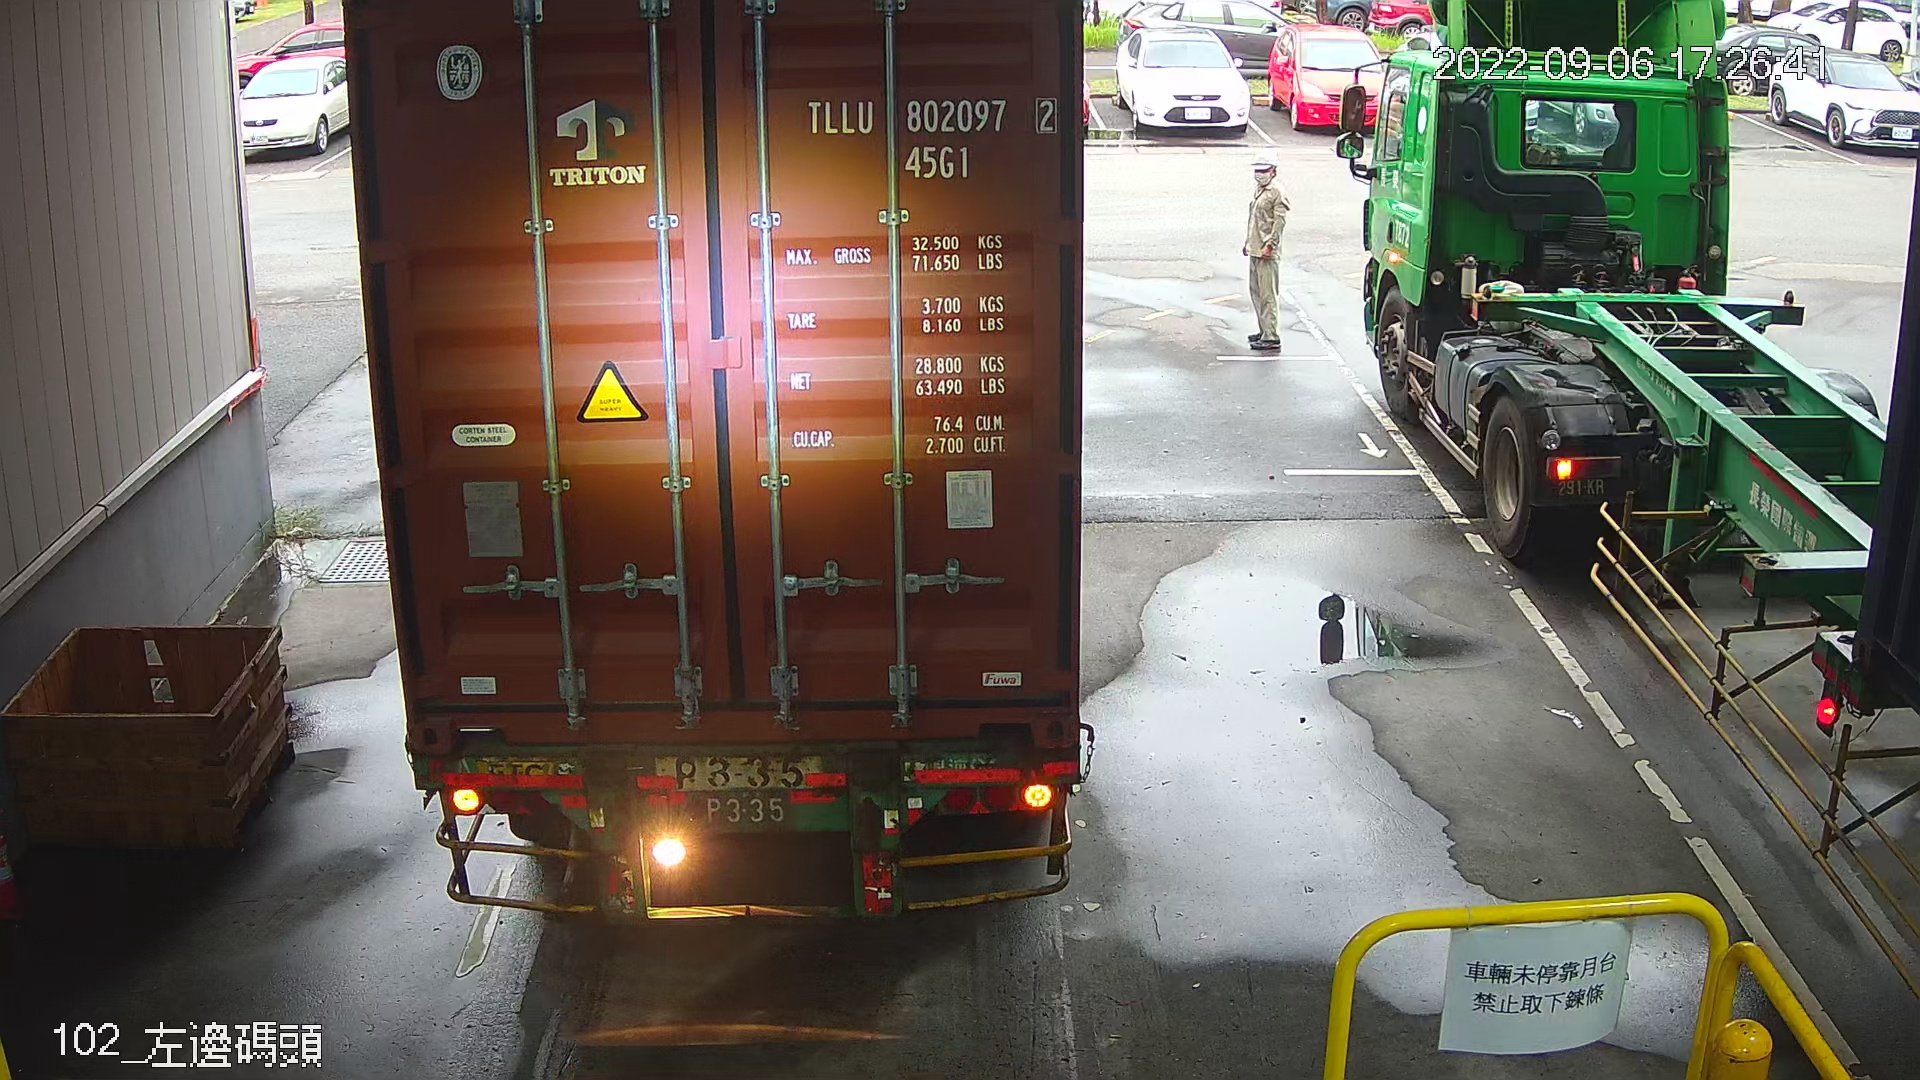container: (800, 86, 1067, 189)
